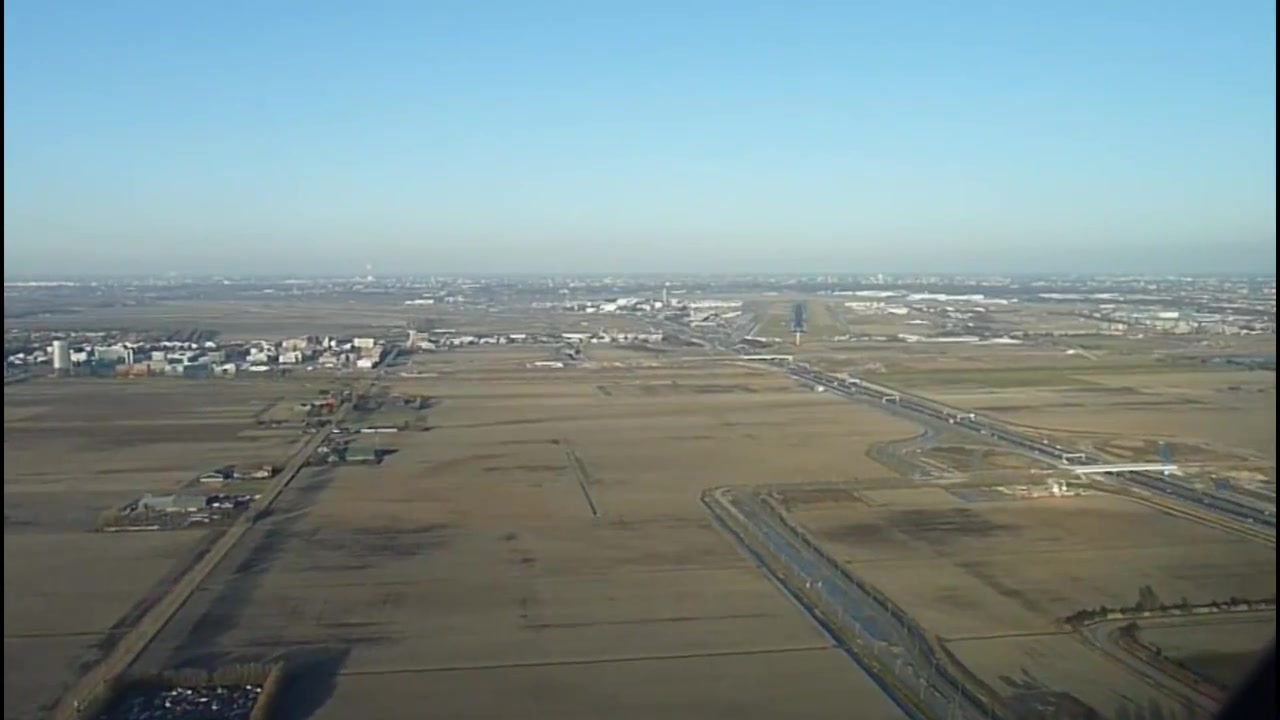runway: (790, 300, 808, 334)
